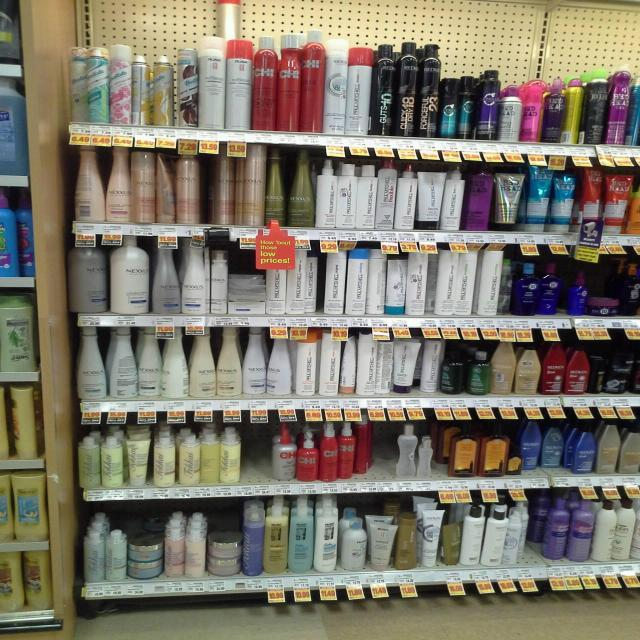empty_space: (239, 433, 269, 479), (373, 435, 392, 475)
